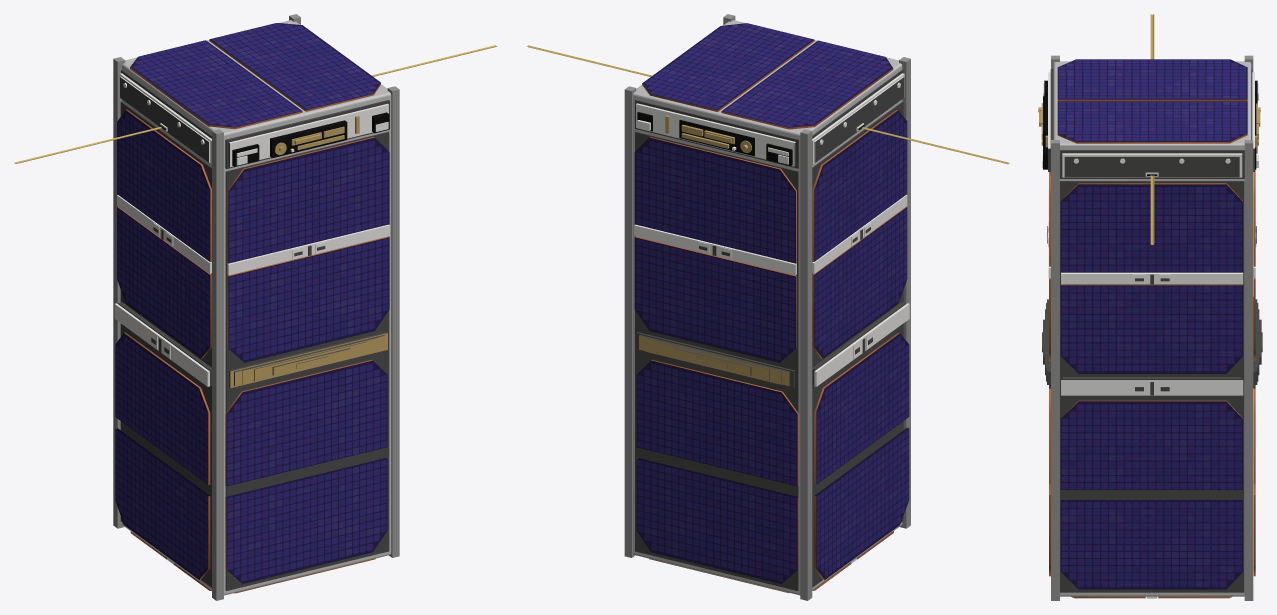
File: Commercial.dae
3 renders of one model, left to right at view 1: azimuth 30°, elevation 25°; view 2: azimuth 150°, elevation 25°; view 3: azimuth 270°, elevation 25°, orthographic. The views are drawn at different scales.
Visible parts, largest first — view 1: Layer_0 (×16); view 2: Layer_0 (×16); view 3: Layer_0 (×16).
Boxes of the visible parts, x1,y1,x2,y2 form: Layer_0 (×16): (14,14,497,600); Layer_0 (×16): (527,14,1009,600); Layer_0 (×16): (1038,14,1262,600).
Bounding box in the file's own units: 5.39 × 5 × 2.21.
